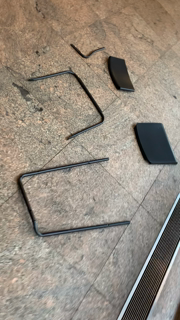Back: (106, 56, 136, 94)
C pipe: (27, 69, 107, 144)
L pipe: (69, 41, 106, 62)
Seat: (131, 122, 179, 166)
U pipe: (16, 157, 132, 239)
